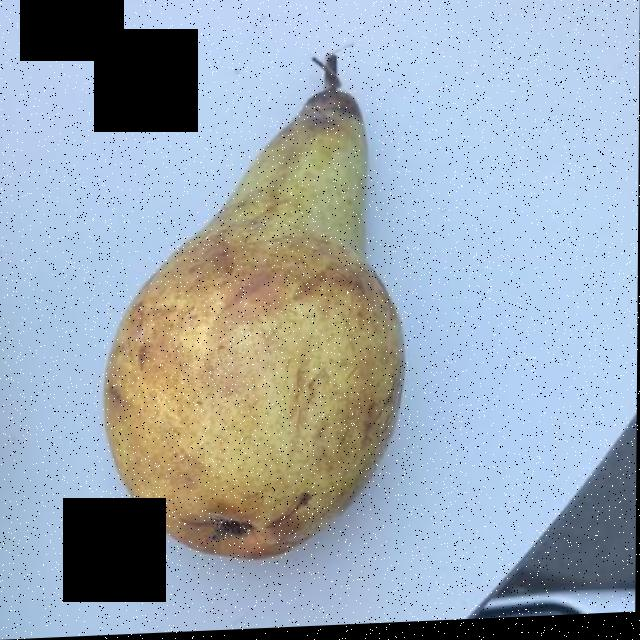pear: (108, 72, 400, 557)
